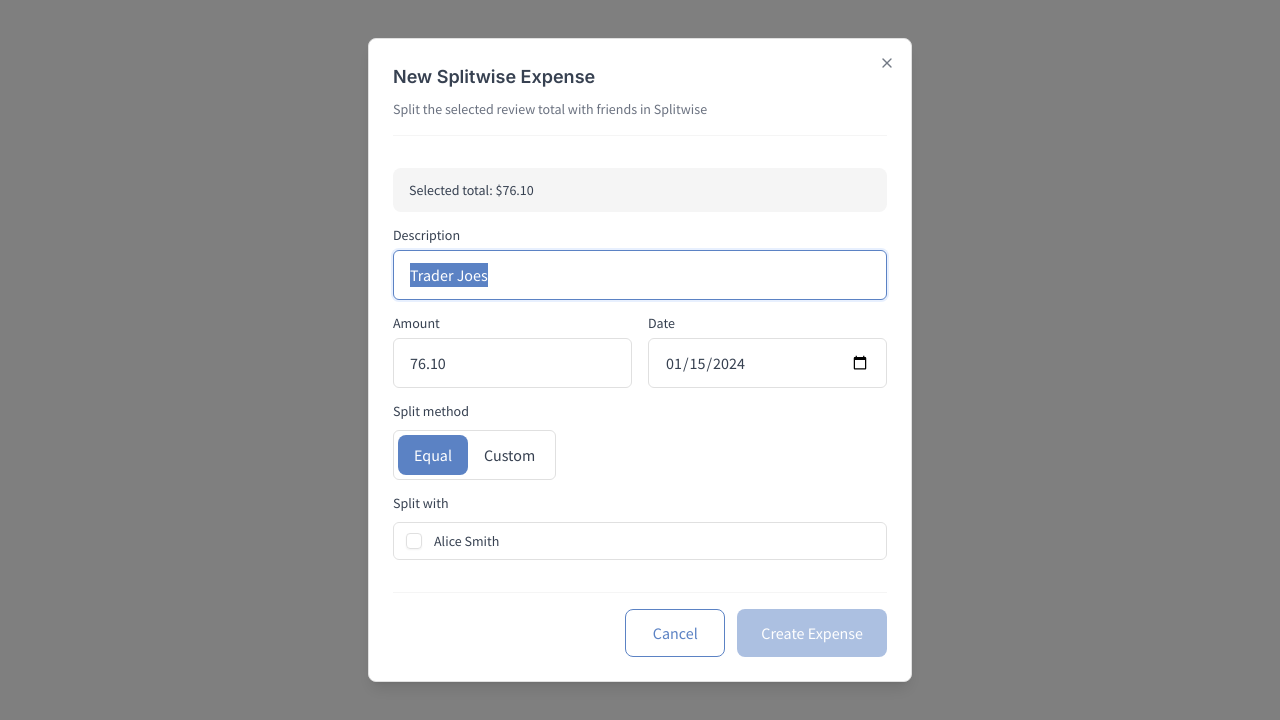
Test case: CreateSplitwiseExpenseModal › allows creation for an amount that is inexact in floating point
Click the text "Alice Smith": (467, 541) [434, 531, 499, 551]
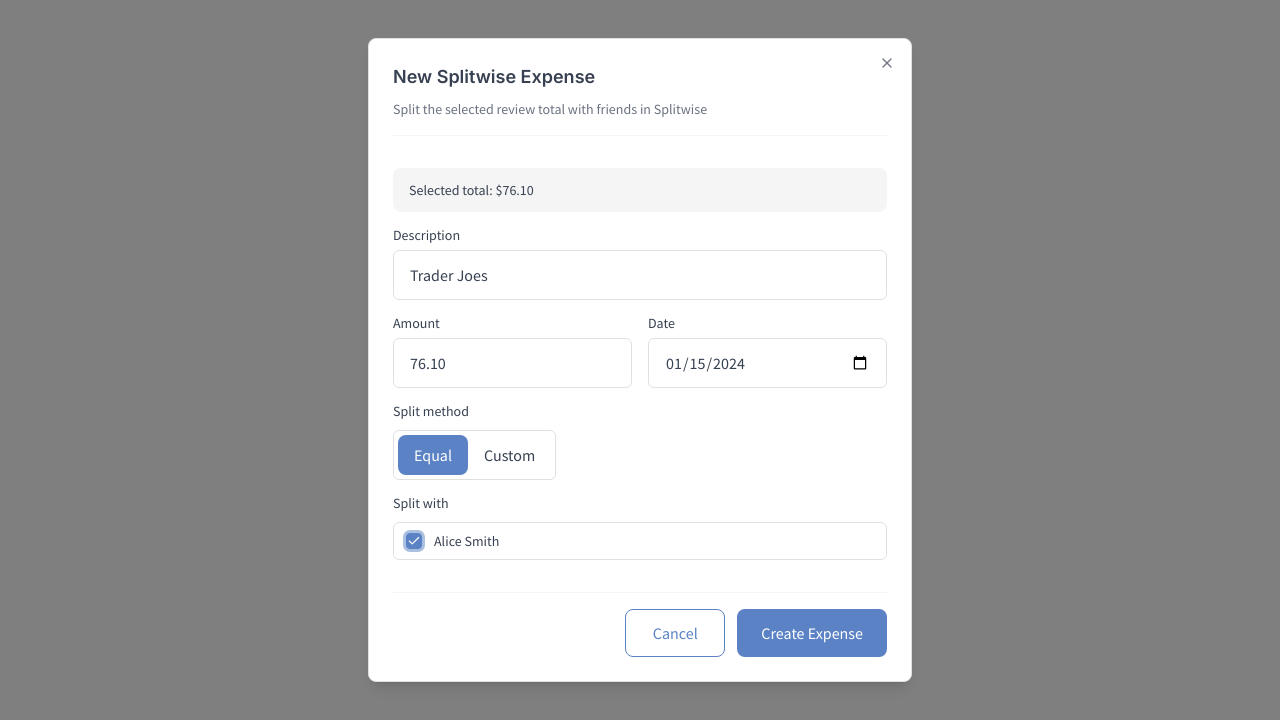
Expected: the number field labelled "Amount" holds "76.1", [393, 338, 632, 388]
Now the button "Create Expense" is enabled, box [737, 609, 887, 657]
